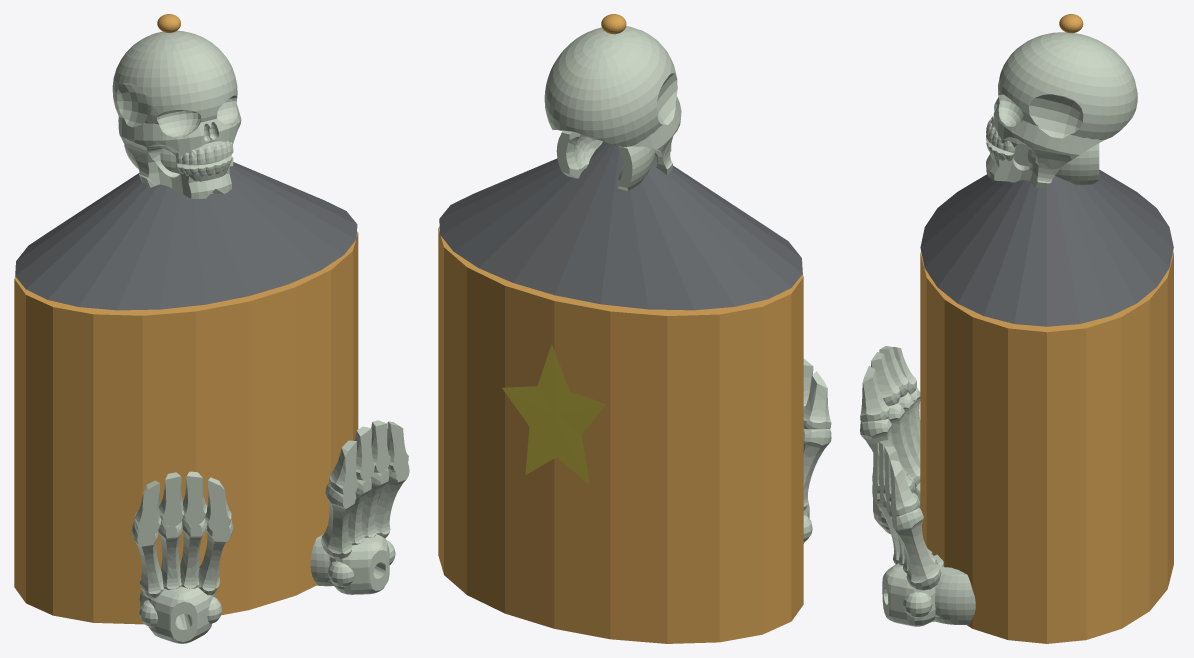
The model's file is Brave Gogo.glb.
3 renders of one model, left to right at view 1: azimuth 30°, elevation 25°; view 2: azimuth 150°, elevation 25°; view 3: azimuth 270°, elevation 25°, orthographic. The views are drawn at different scales.
Parts seen in each view (by area): view 1: Mesh_Mesh_head_geo.001_lambert2SG.001; view 2: Mesh_Mesh_head_geo.001_lambert2SG.001; view 3: Mesh_Mesh_head_geo.001_lambert2SG.001.
Part boxes in pixels (bbox=[...]): Mesh_Mesh_head_geo.001_lambert2SG.001: bbox=[14, 14, 409, 643]; Mesh_Mesh_head_geo.001_lambert2SG.001: bbox=[438, 14, 831, 643]; Mesh_Mesh_head_geo.001_lambert2SG.001: bbox=[860, 14, 1173, 643].
Size of the model in its own units: 62 by 100 by 53.
